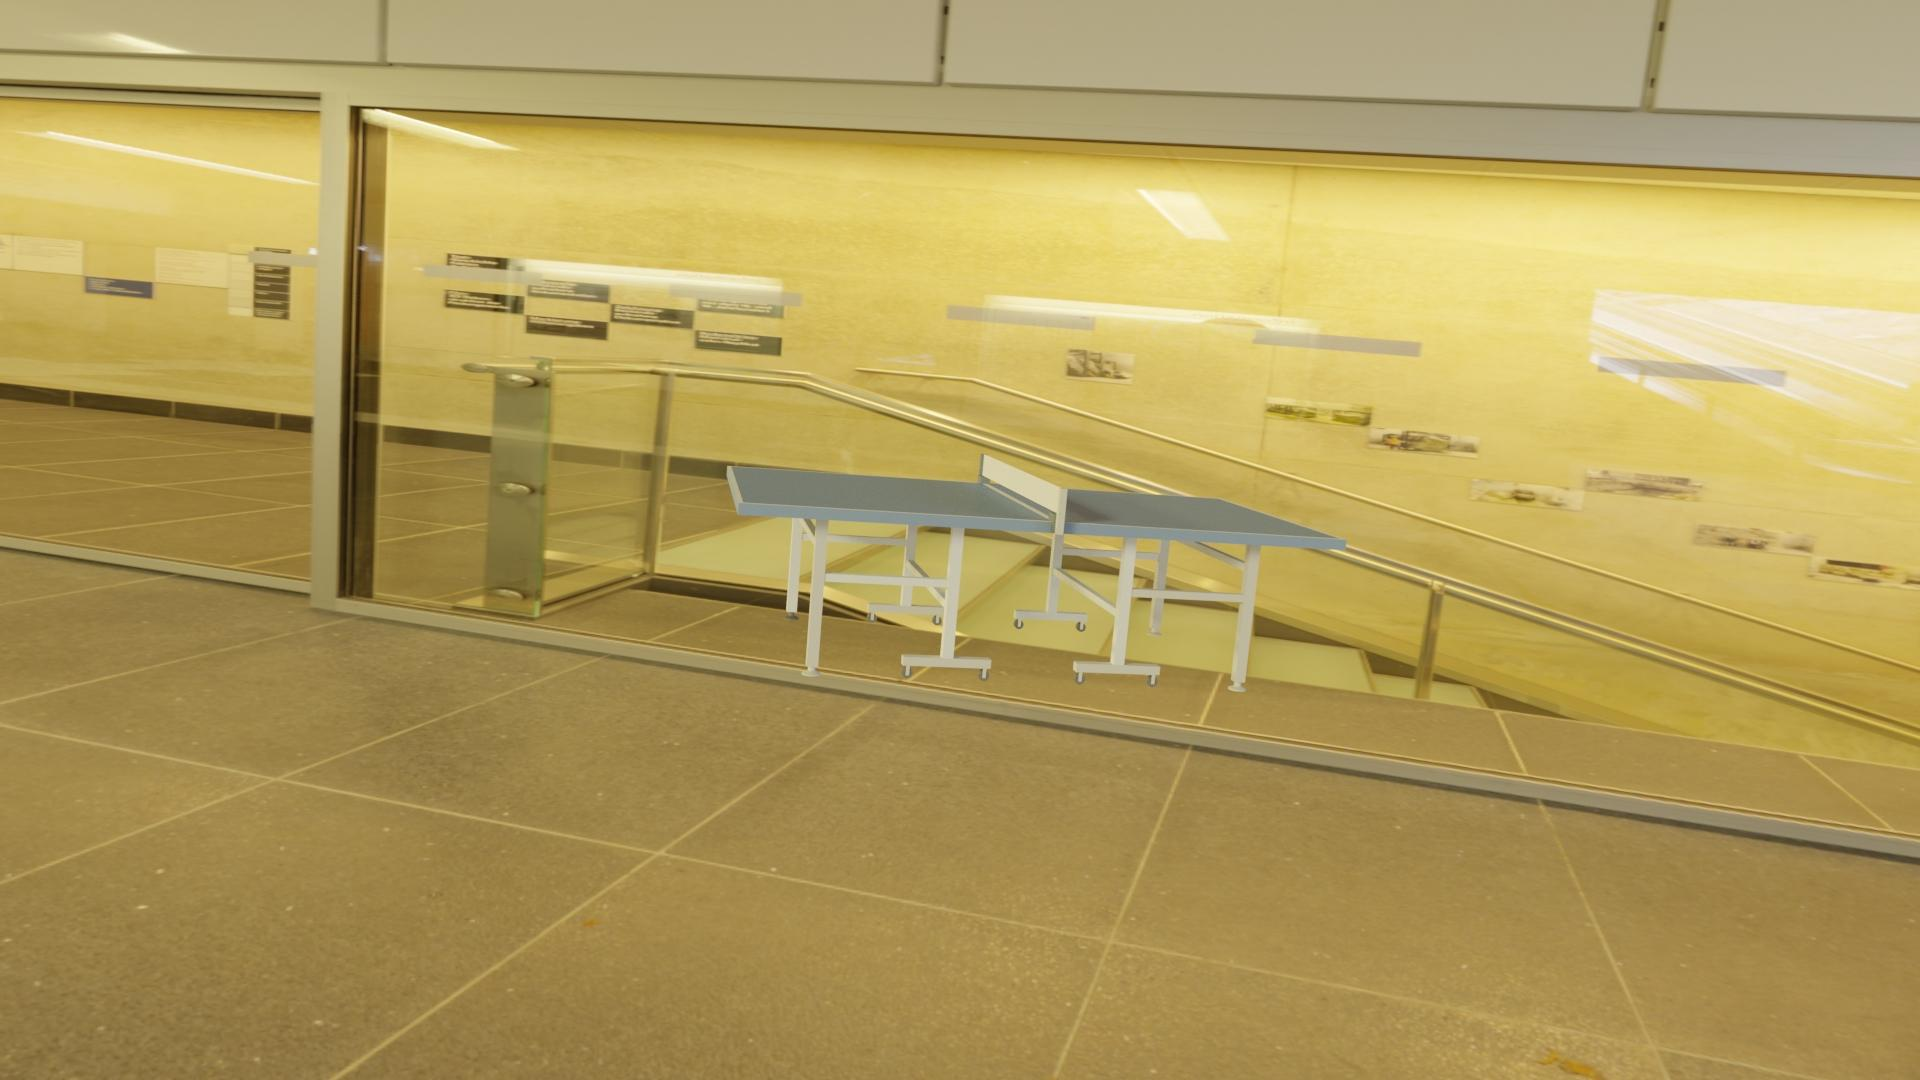table: (732, 467, 1341, 539)
